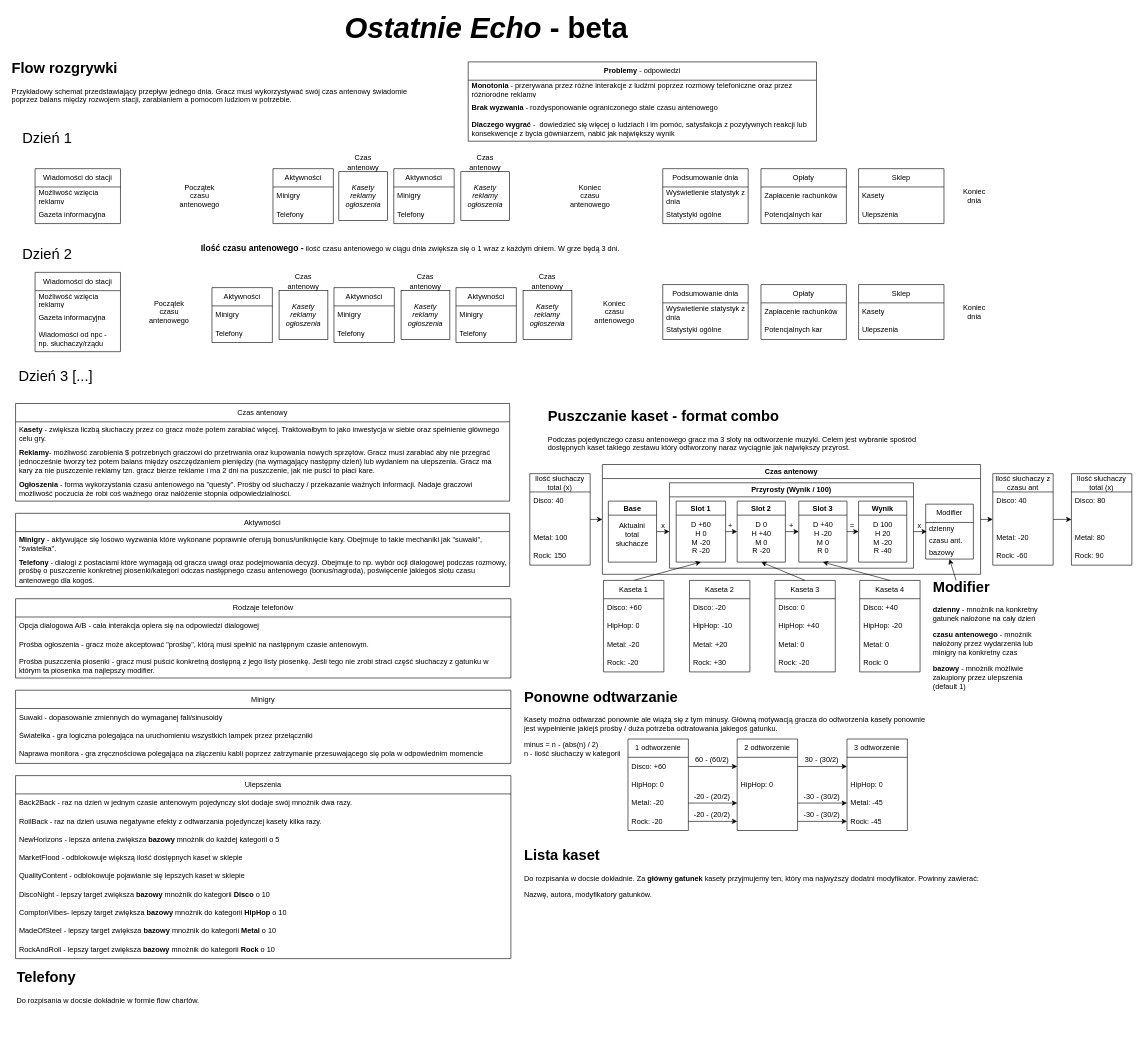
The diagram is 1143 pixels wide and 1050 high, and some of its shapes have lost their labels. Each missing label, with the centre of its shape:
Disco: +15: (877,766)
Disco: +30: (767,766)
HipHop: 100: (559,519)
HipHop: 120: (1101,519)
HipHop: 20: (1022,519)
Metal: -30: (767,803)
Rock: -30: (767,821)
